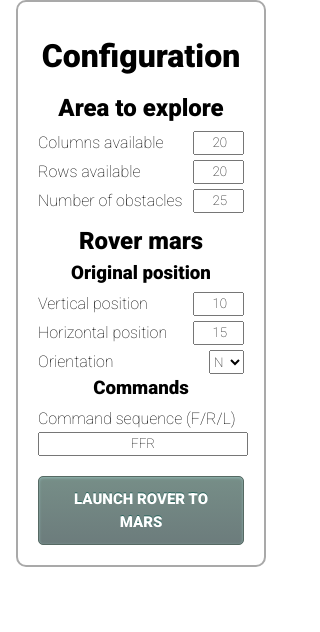
Given a RoverExpeditionComponent › When is invoked and the horizontal position is bigger than rows value › Then should render an error
This screenshot has width=320, height=632.
Replace the text in the number field with id "xOrigin" with "150" at [218, 333], box x1=193 y1=321 x2=244 y2=345
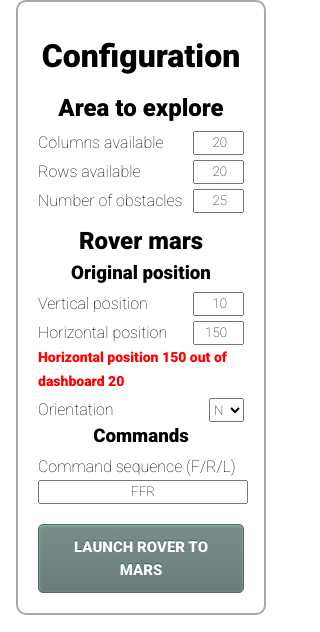
Expected: the text with class "input-container__element--error" reads "Horizontal position 150 out of dashboard 20", x1=38 y1=349 x2=227 y2=389
